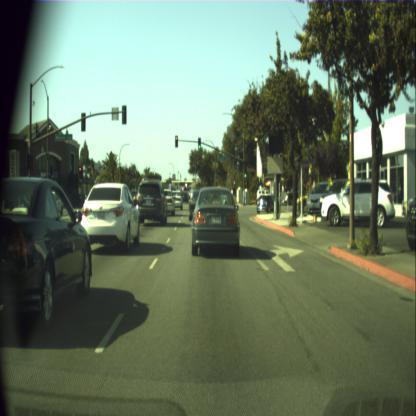Green: (198, 137, 200, 149), (244, 170, 247, 178)
Red: (175, 135, 178, 147)
RedLeft: (78, 166, 82, 177)
